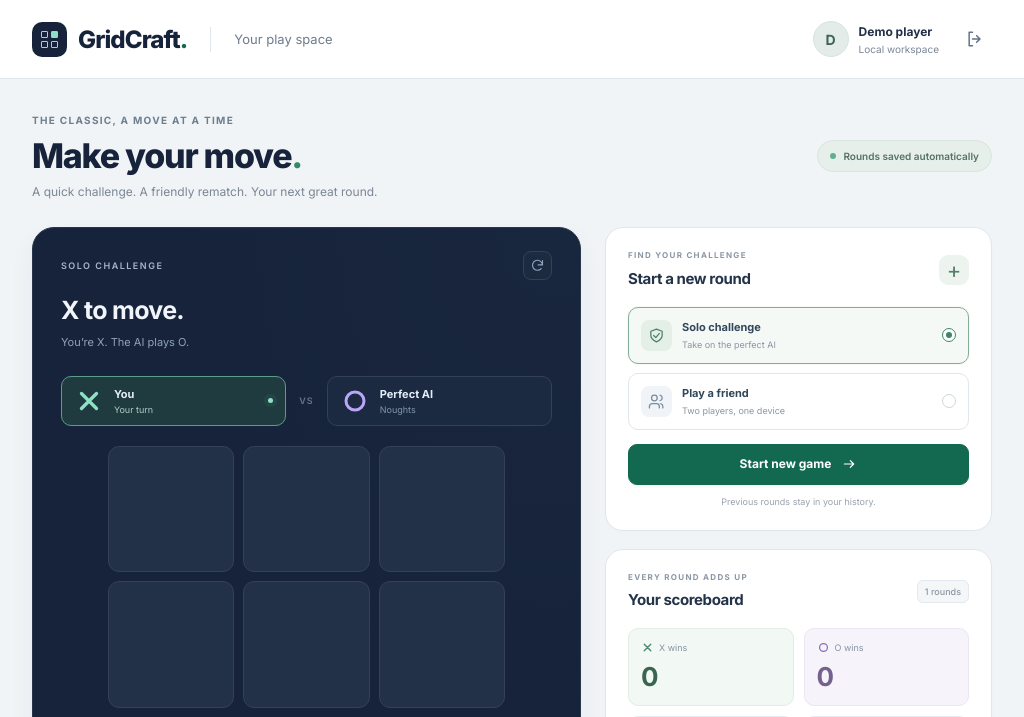
Test: starting a local round sends one mode and a canonical request ID
Expected: the heading "Make your move." is shown, [32,135,302,176]
Expected: the button "Start new game" is enabled, [628,444,969,485]
Click the button "Play a friend Two players, one device" at (656, 401), box [628,373,969,430]
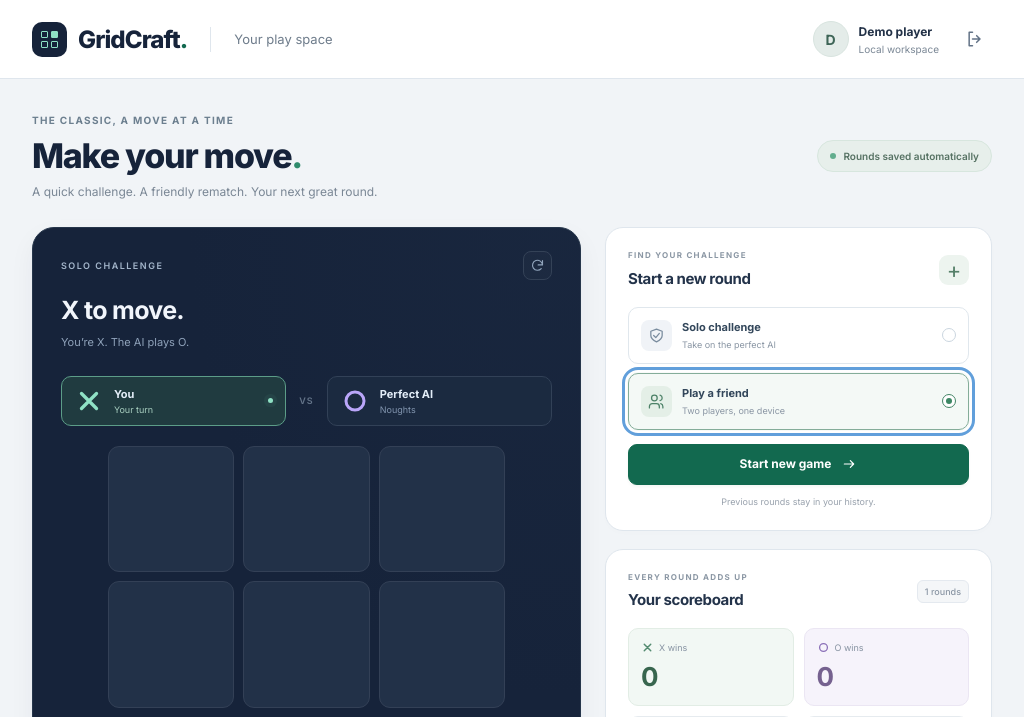
Click the button "Start new game" at (798, 464), box [628,444,969,485]
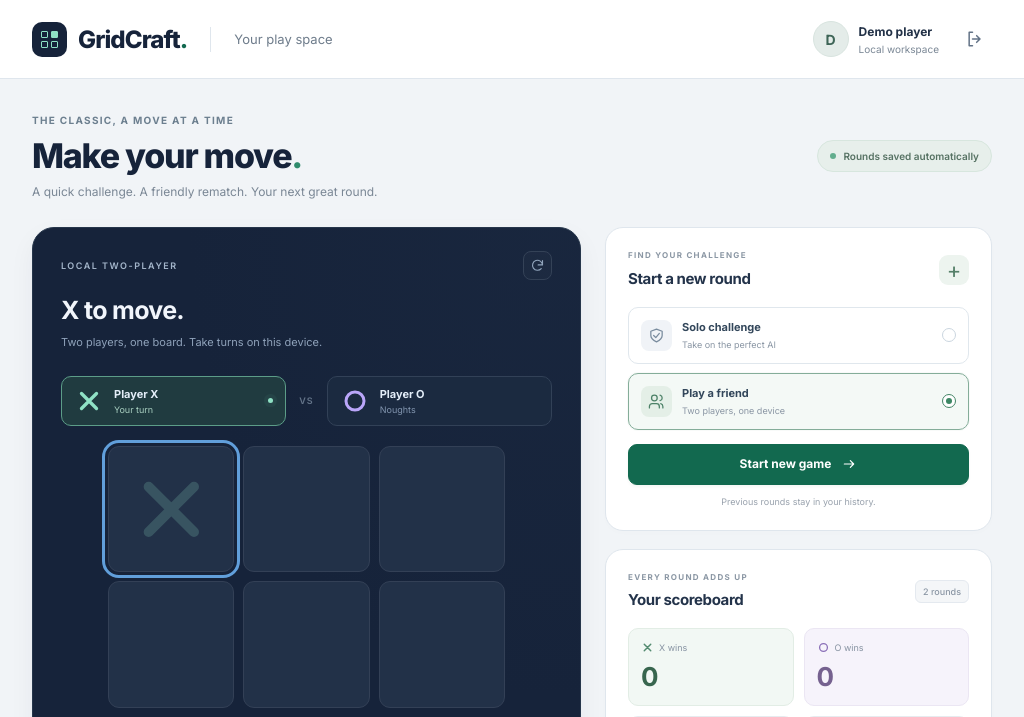
Expected: the text "LOCAL TWO-PLAYER" is shown, [61,260,178,271]
